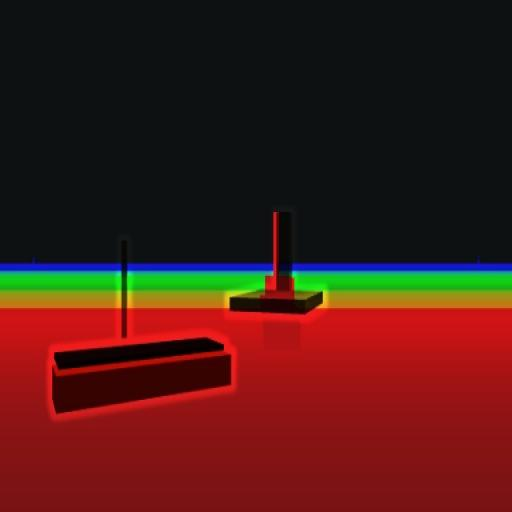platform: (231, 206, 322, 313)
vessel: (50, 220, 232, 420)
